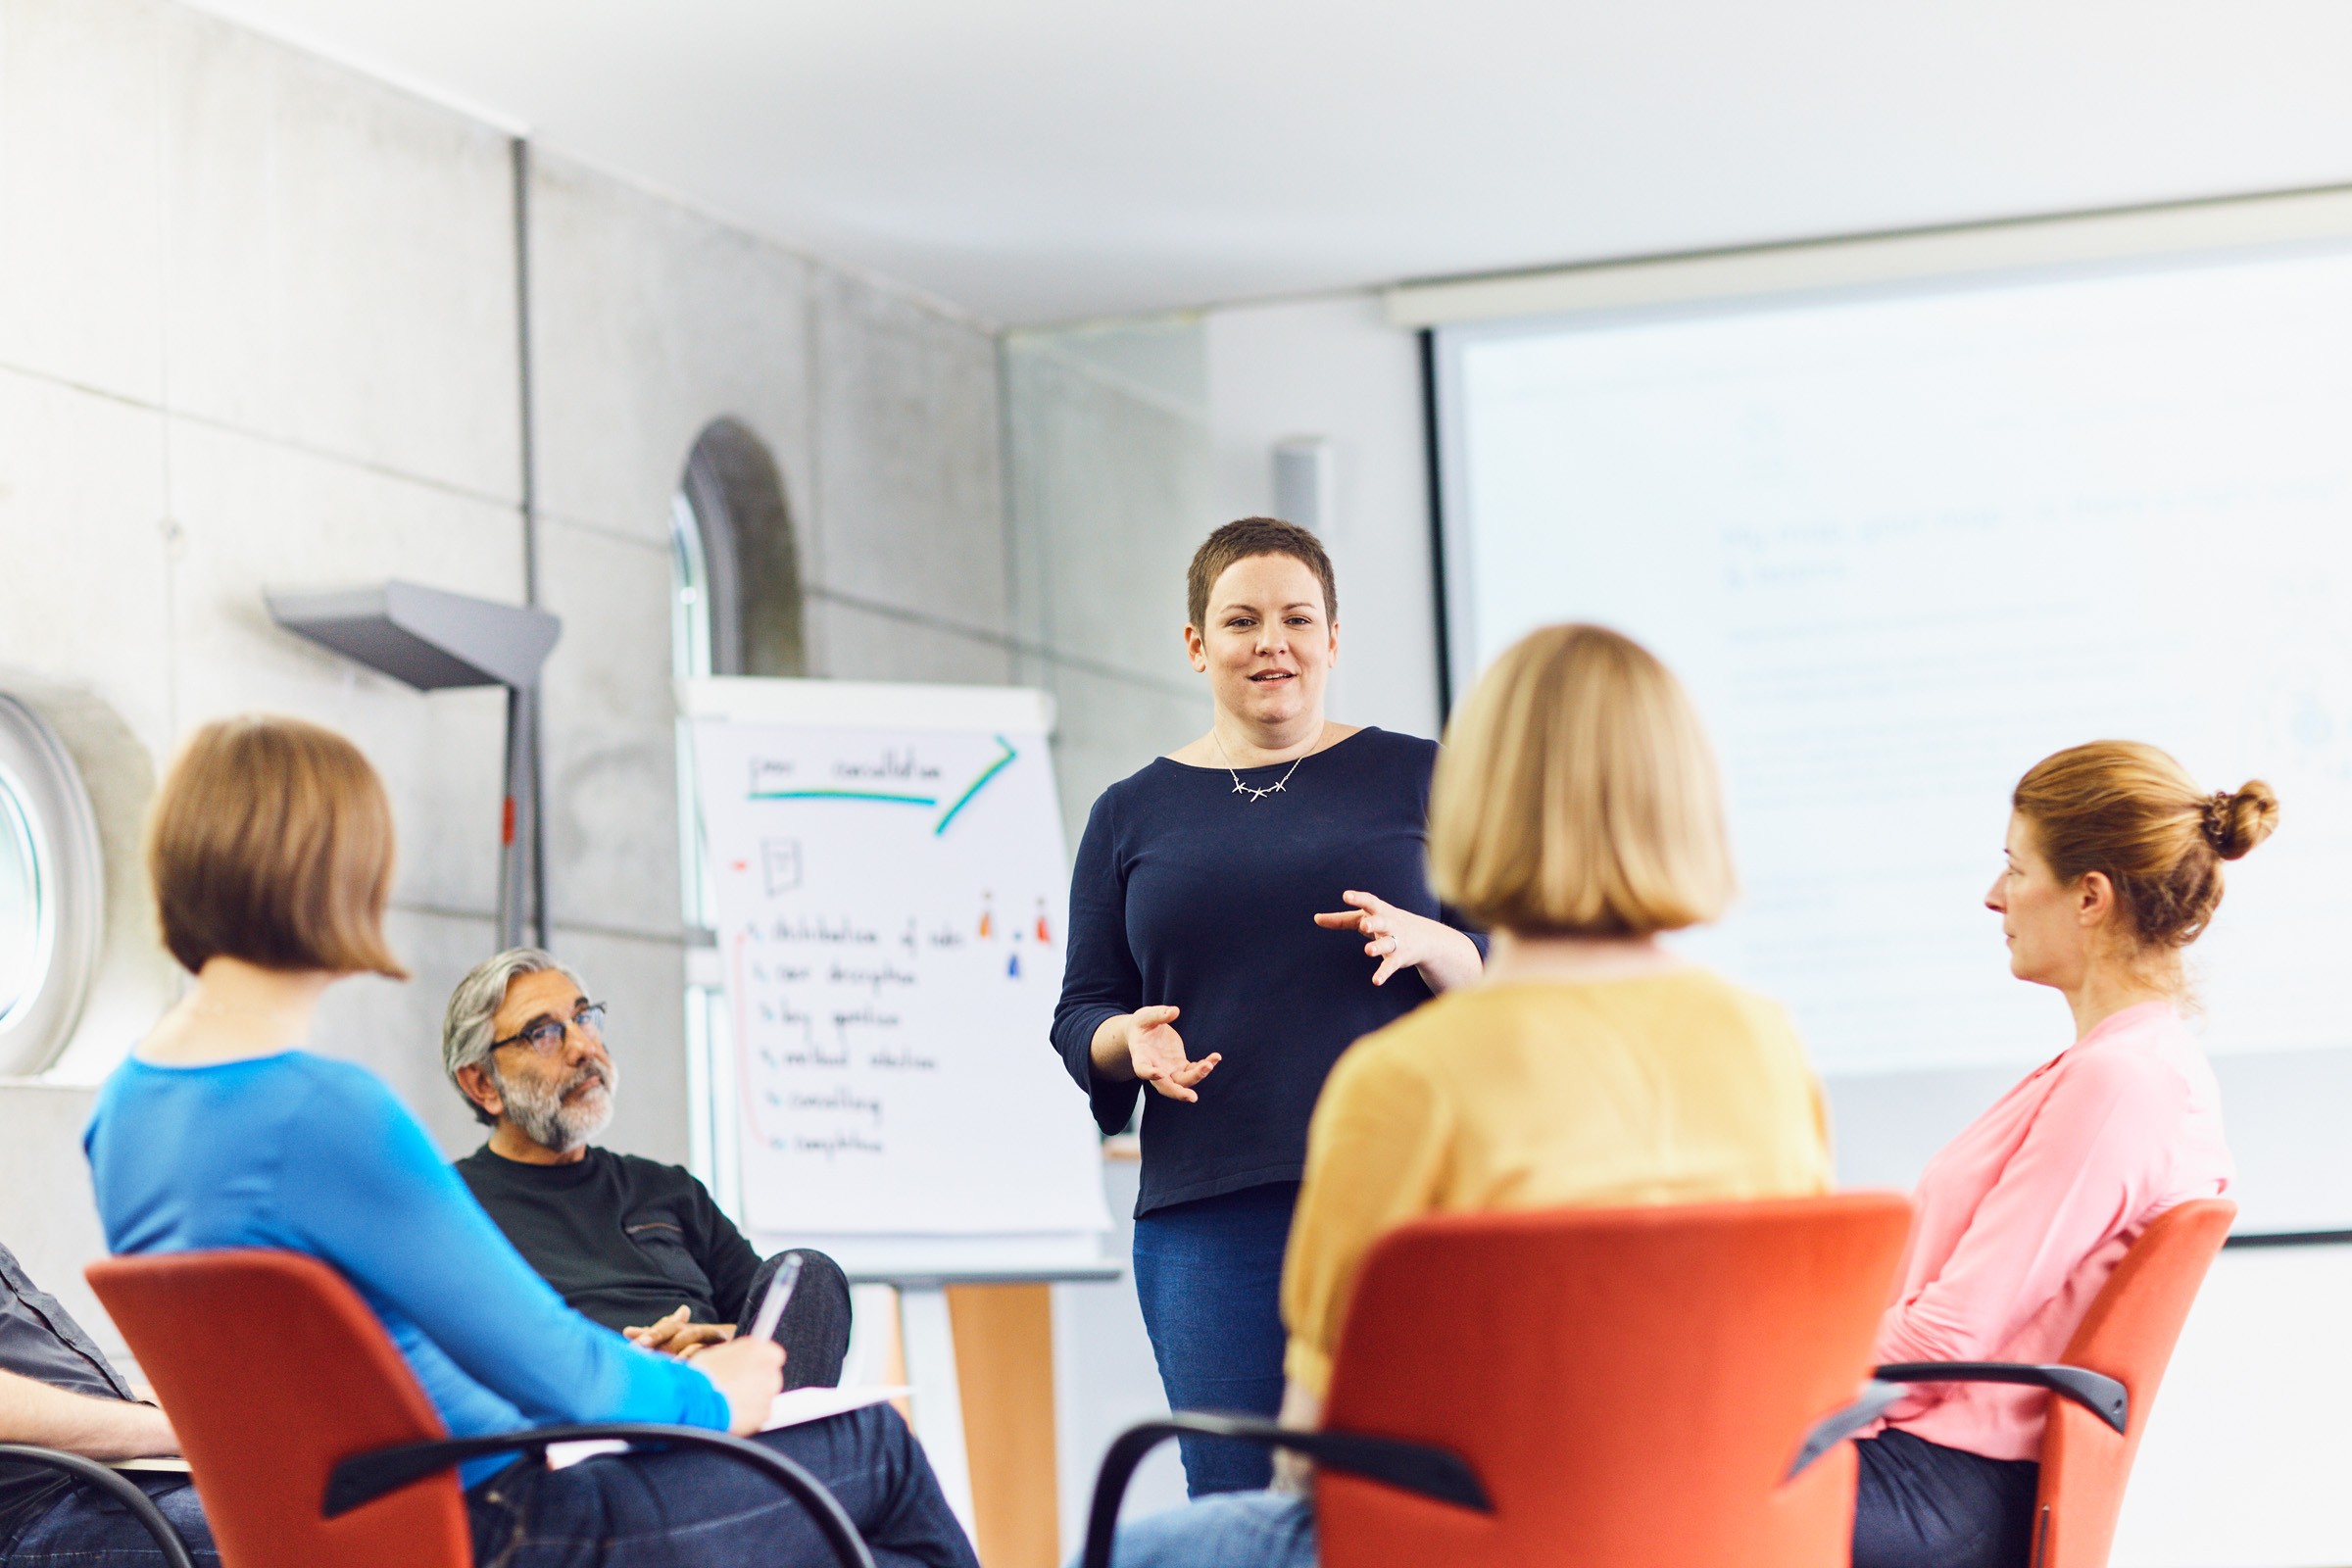Person: (78, 713, 985, 1568), (1081, 617, 1840, 1568), (1041, 514, 1491, 1568), (1857, 736, 2282, 1568), (443, 950, 855, 1389)
